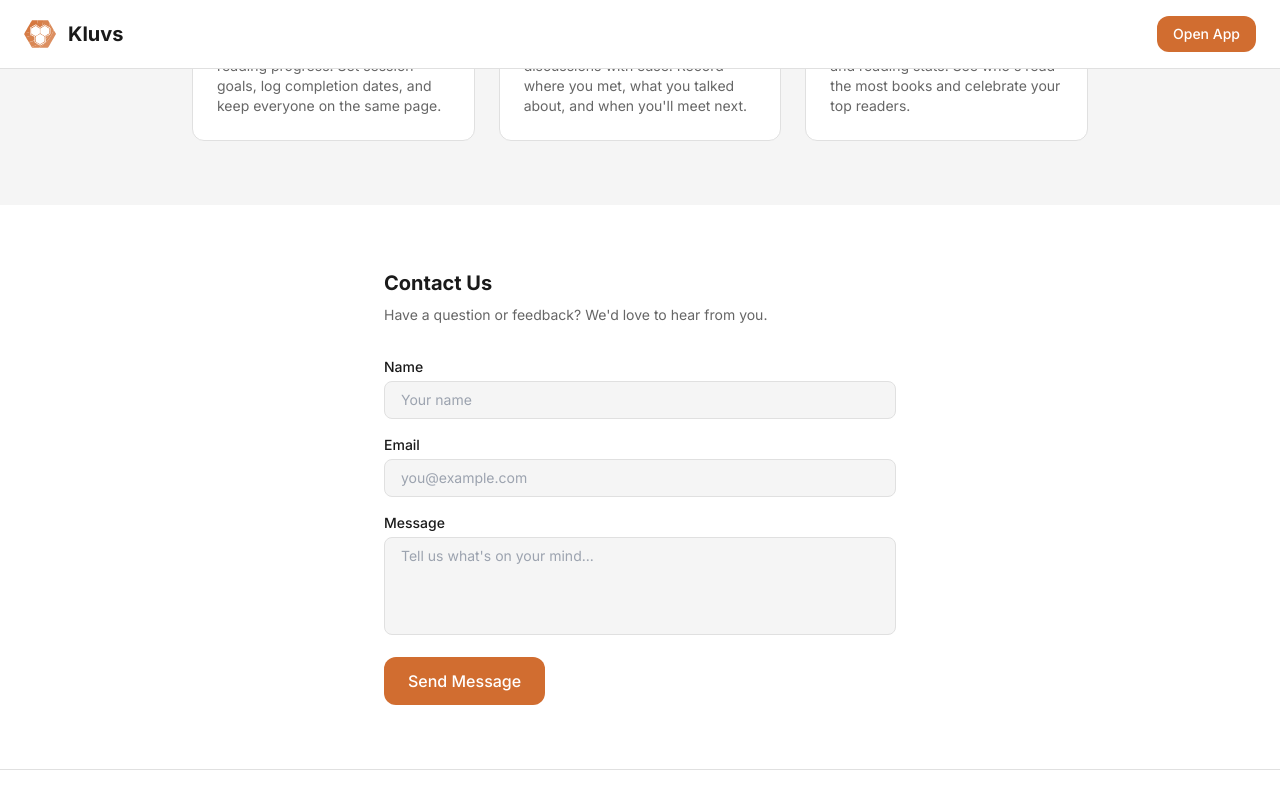
LandingPage › Contact Form › should show success message after form submission
The width and height of the screenshot is (1280, 800).
(page scrolled)
Type "Jane" into the field labelled "Name" at (640, 400), box [384, 381, 896, 419]
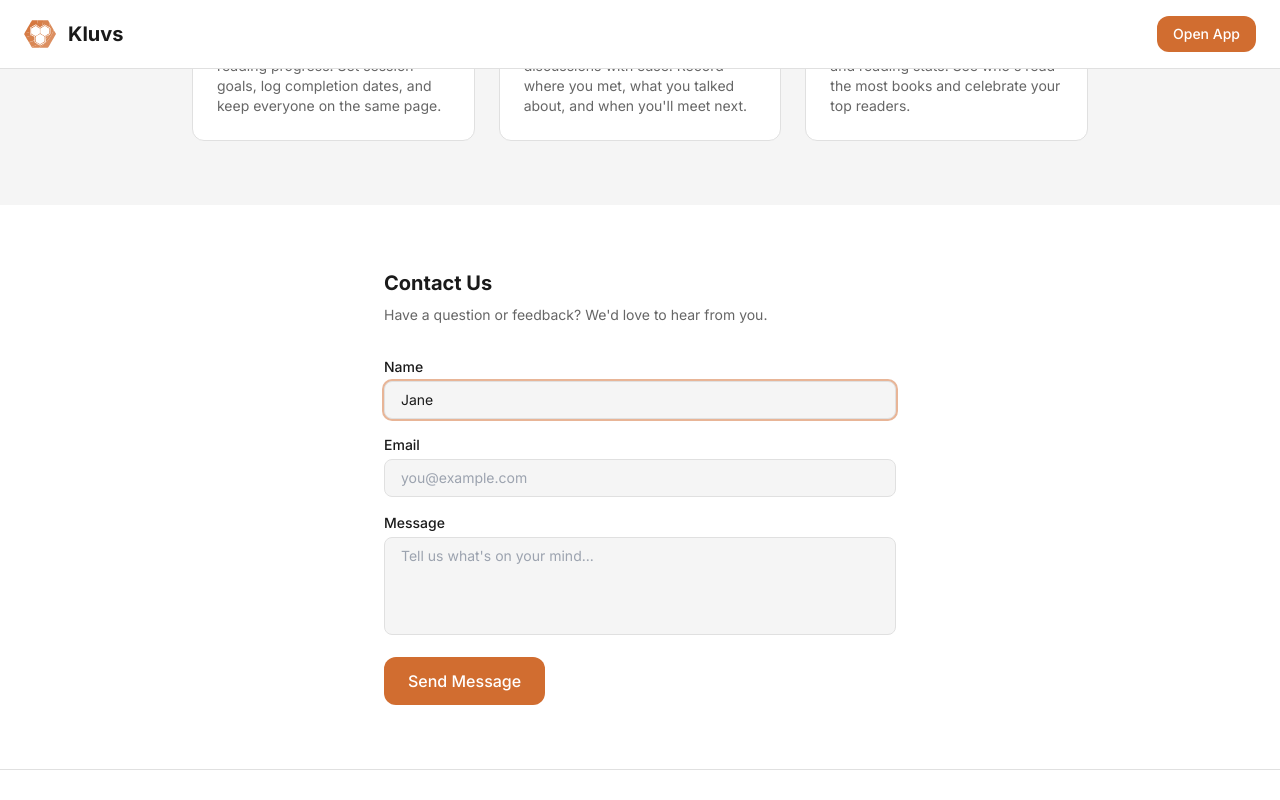
Type "jane@example.com" into the field labelled "Email" at (640, 478), box [384, 459, 896, 497]
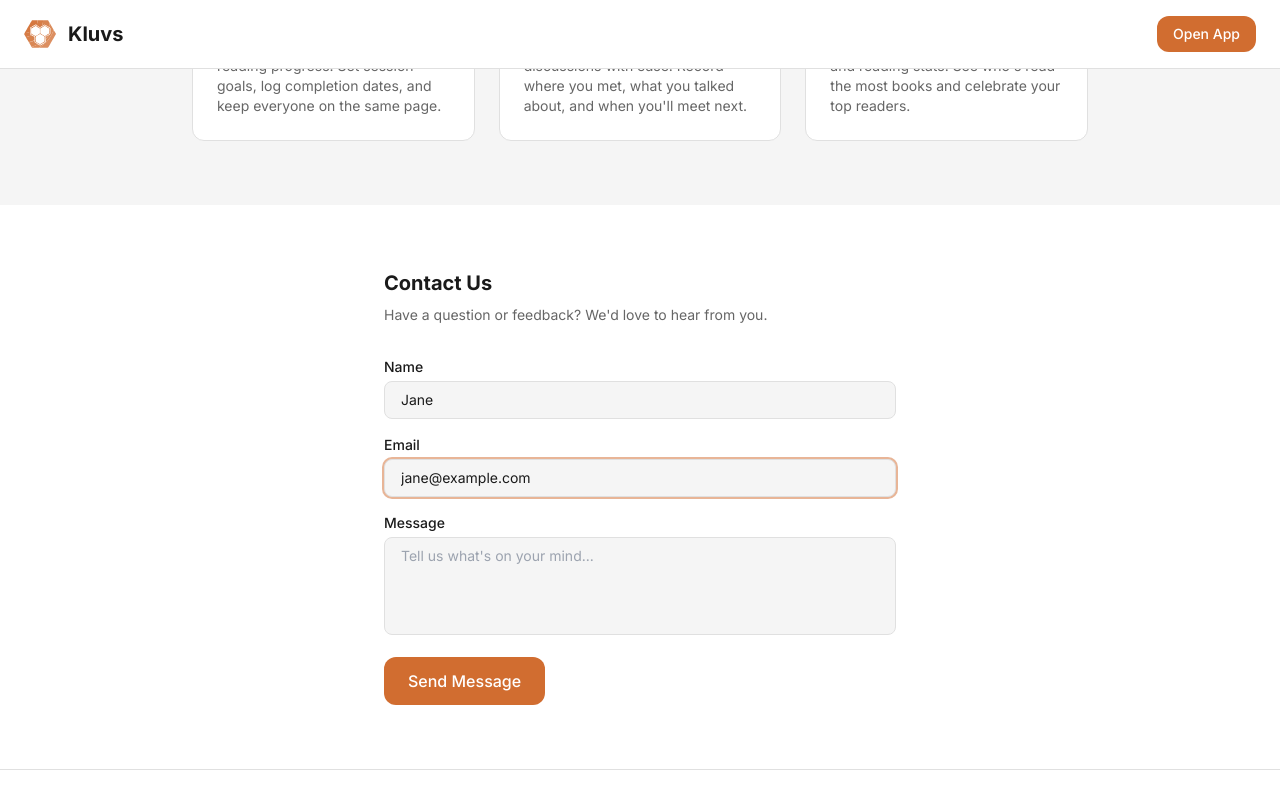
Type "Hello!" into the text box labelled "Message" at (640, 586), box [384, 537, 896, 635]
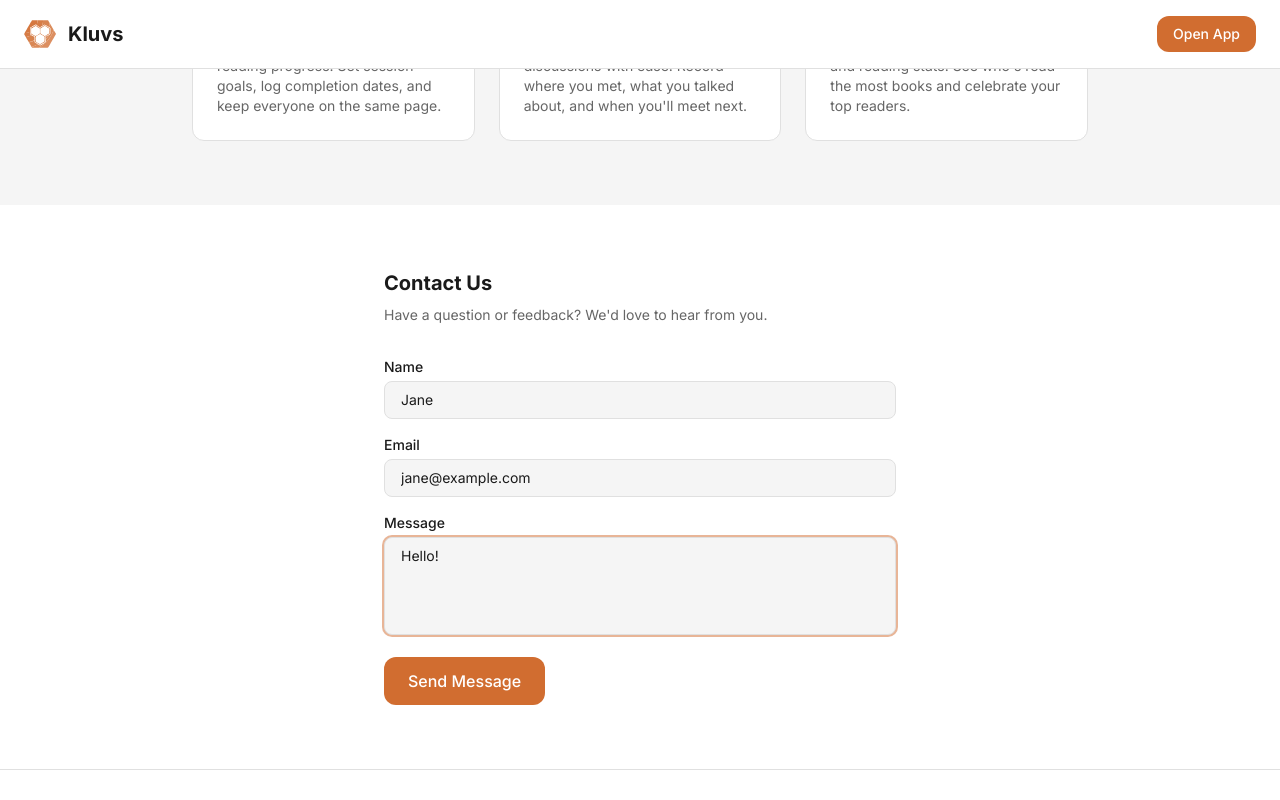
Click the button "Send Message" at (465, 681), box [384, 657, 545, 705]
(page scrolled)
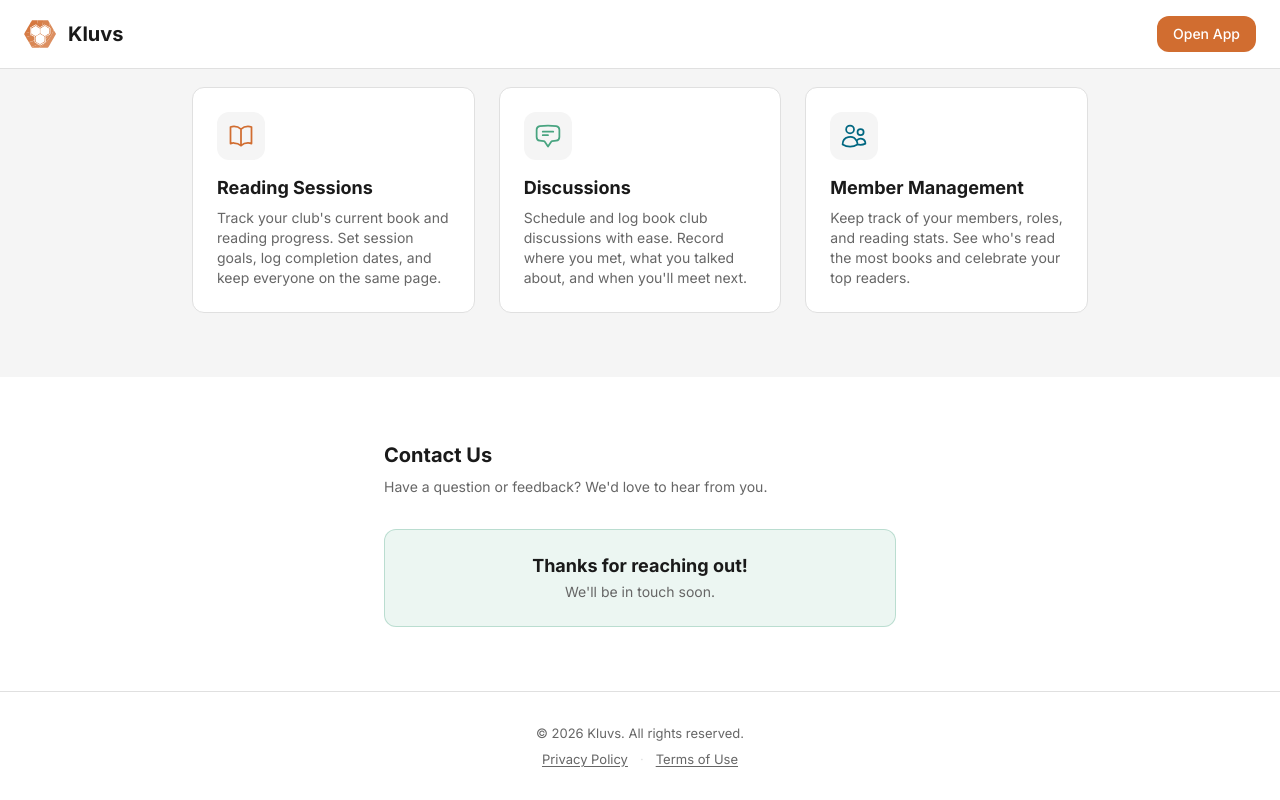
Expected: the text "Thanks for reaching out!" is shown, [532, 555, 748, 576]
Expected: the button "Send Message" is gone
